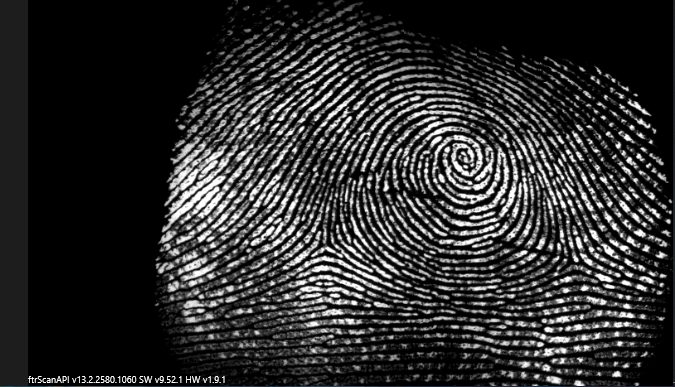deltas: (298, 217, 351, 271), (547, 235, 597, 286)
nucleo: (441, 133, 483, 179)
